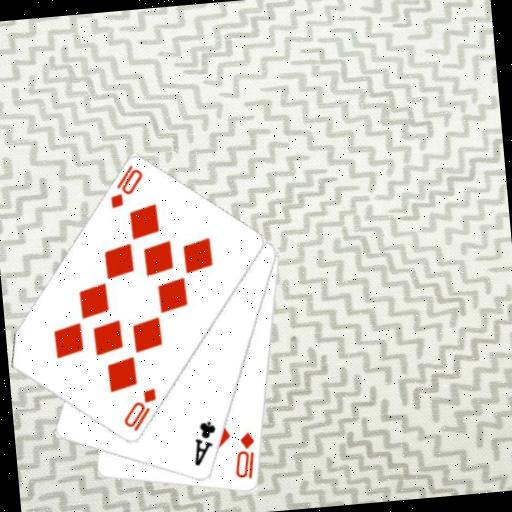10D: (104, 161, 147, 211), (118, 385, 161, 434), (230, 429, 260, 482)
AC: (188, 418, 221, 469)
